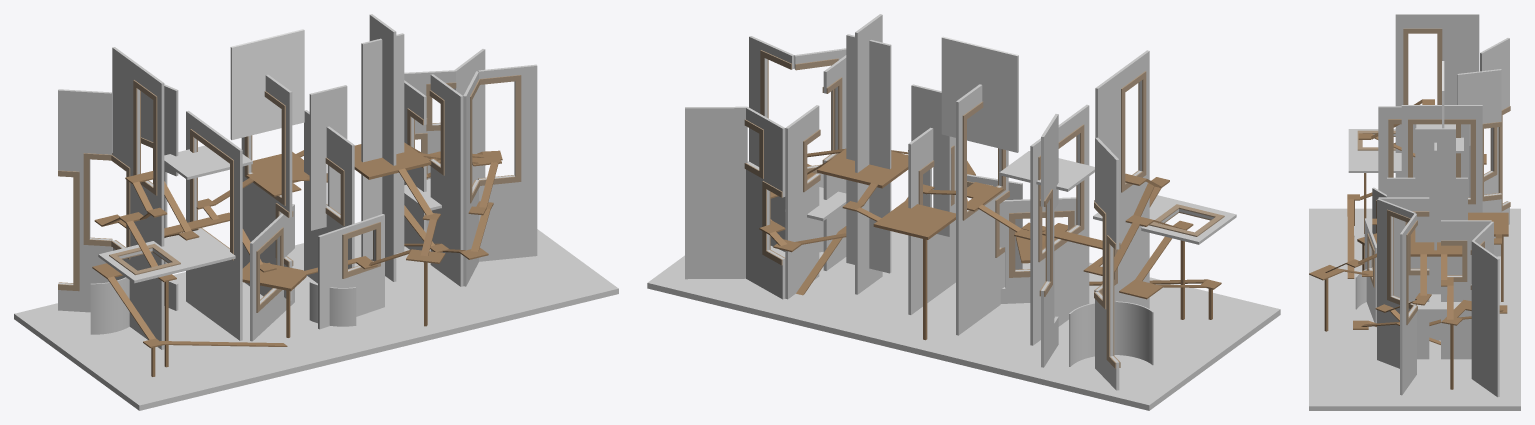
The picture shows the model from 3 angles, left to right: view 1: azimuth 30°, elevation 25°; view 2: azimuth 150°, elevation 25°; view 3: azimuth 270°, elevation 25°; orthographic projection. The views are drawn at different scales.
Parts seen in each view (by area): view 1: dizuo, 对象004, 对象008, 对象007, lujing, 对象006; view 2: dizuo, 对象004, 对象007, 对象008, lujing, 对象006; view 3: dizuo, 对象007, 对象004, 对象008, lujing, 对象006.
Boxes of the visible parts, bbox=[...] form: dizuo: bbox=[14, 229, 618, 410]; 对象004: bbox=[58, 47, 252, 349]; 对象008: bbox=[230, 29, 384, 341]; 对象007: bbox=[404, 49, 537, 286]; lujing: bbox=[92, 142, 502, 376]; 对象006: bbox=[361, 14, 404, 281]; dizuo: bbox=[647, 231, 1280, 410]; 对象004: bbox=[999, 50, 1236, 390]; 对象007: bbox=[685, 36, 846, 299]; 对象008: bbox=[908, 36, 1076, 335]; lujing: bbox=[759, 148, 1221, 340]; 对象006: bbox=[846, 14, 891, 294]; dizuo: bbox=[1309, 208, 1520, 410]; 对象007: bbox=[1377, 197, 1499, 397]; 对象004: bbox=[1348, 14, 1510, 256]; 对象008: bbox=[1355, 61, 1482, 323]; lujing: bbox=[1309, 99, 1508, 389]; 对象006: bbox=[1415, 128, 1455, 340].
Size of the model in its own units: 9.23 by 5 by 4.18.
